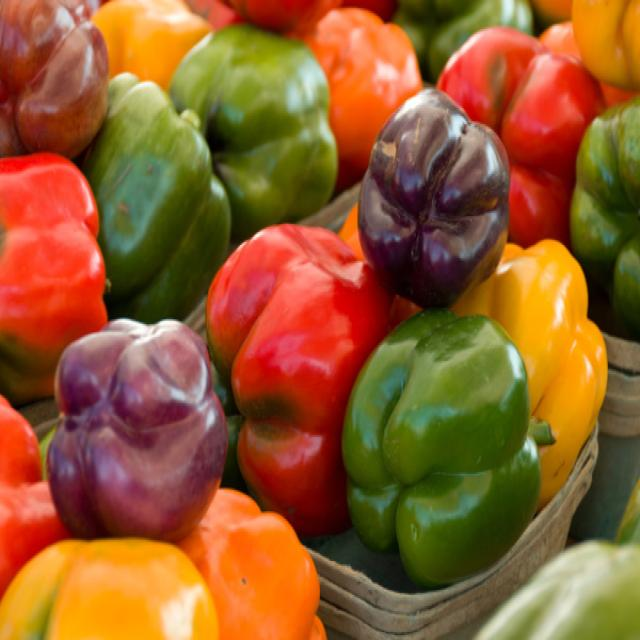Bell pepper: (195, 204, 390, 516), (347, 312, 558, 589), (426, 39, 618, 234), (167, 34, 344, 244), (468, 219, 605, 478), (39, 333, 199, 545), (0, 126, 122, 402), (362, 96, 520, 294), (100, 77, 219, 305), (13, 516, 225, 640), (6, 0, 120, 161)
